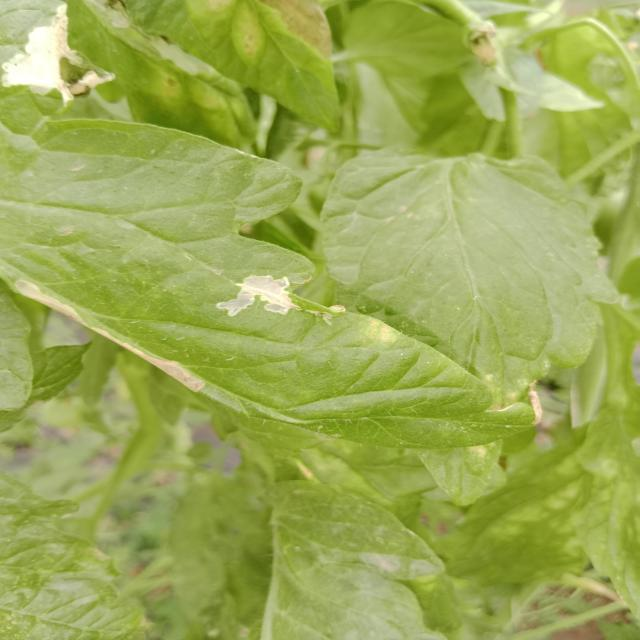Tuta absoluta: (216, 274, 290, 316)
